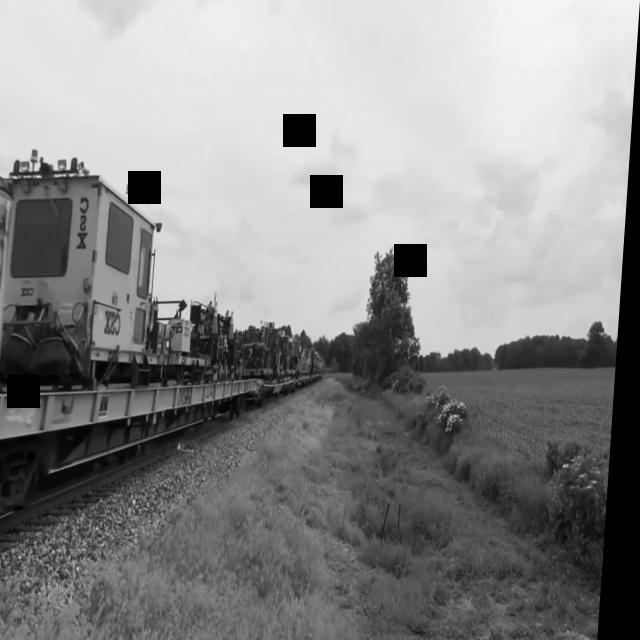cargo: (0, 139, 168, 384), (156, 287, 230, 379)
flatcar: (0, 377, 268, 537)
